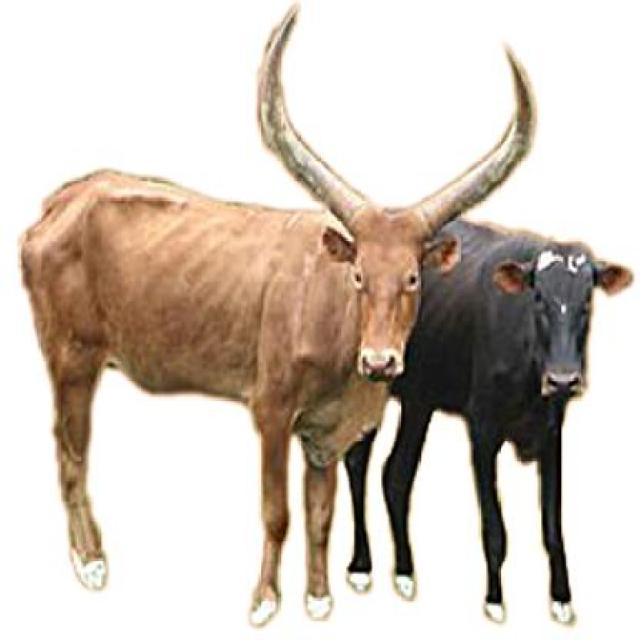Cow: (20, 0, 535, 623), (343, 206, 625, 625)
